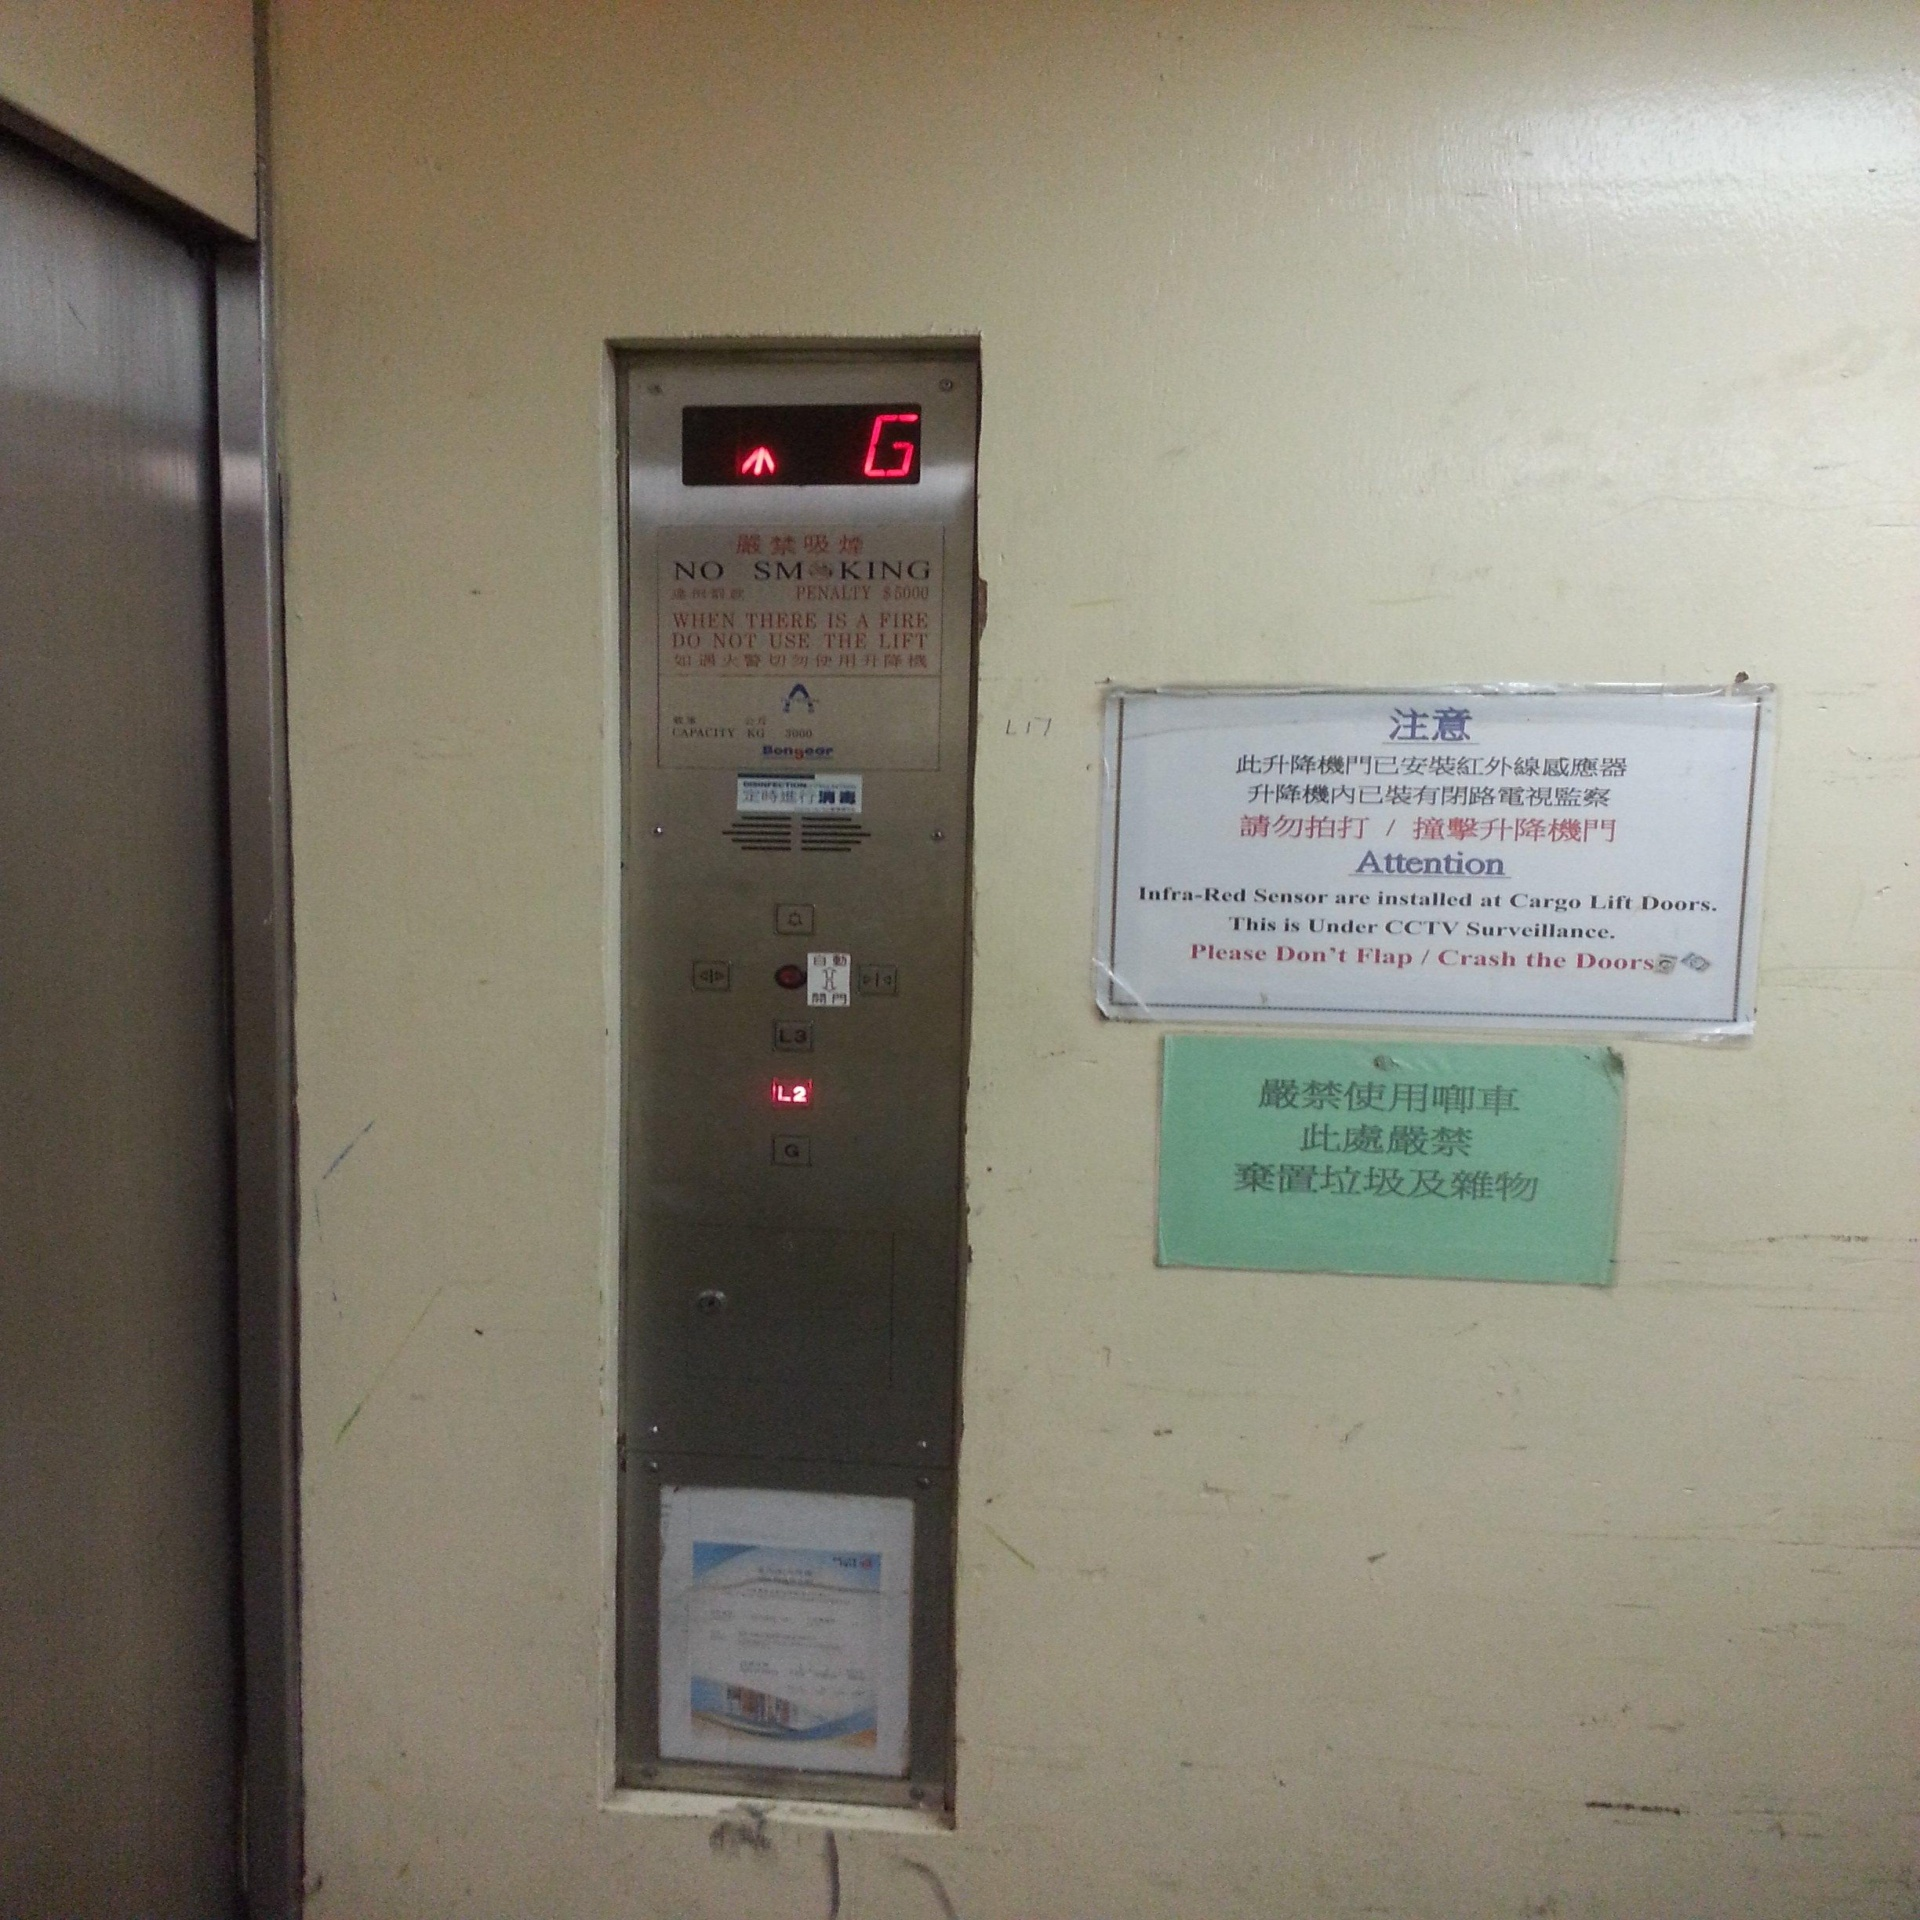G: (772, 1134, 812, 1167)
L2: (772, 1074, 814, 1109)
L3: (772, 1018, 816, 1053)
alarm: (774, 900, 816, 937)
blur: (774, 964, 809, 988)
close: (856, 962, 898, 999)
keyhole: (695, 1289, 726, 1315)
led: (677, 401, 927, 491)
open: (691, 958, 731, 993)
